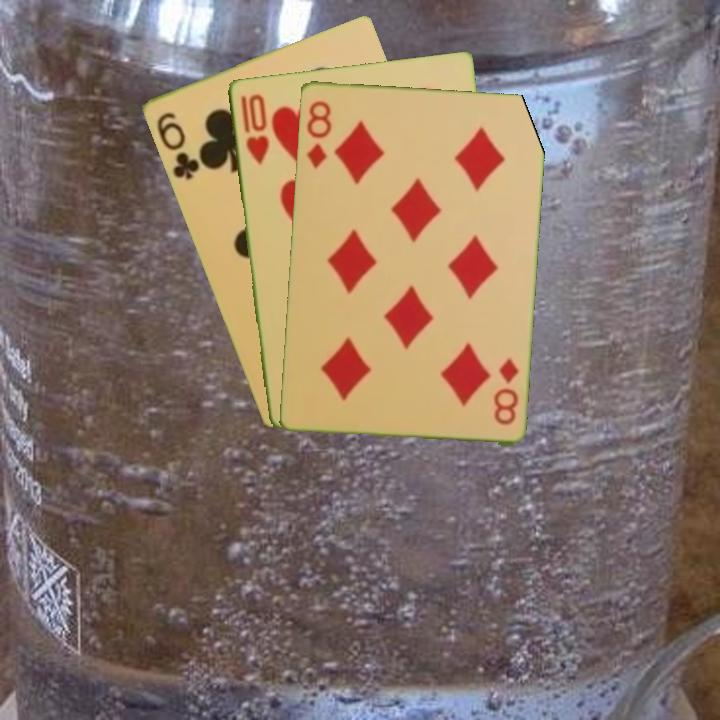10h: (237, 90, 272, 167)
6c: (152, 108, 202, 183)
8d: (489, 354, 521, 428), (303, 97, 334, 171)
